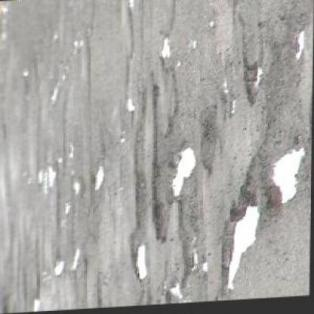Hueco: (218, 182, 262, 295), (262, 148, 308, 214), (168, 146, 197, 200), (128, 230, 150, 282), (241, 61, 262, 113), (130, 171, 148, 230), (153, 198, 175, 244)
